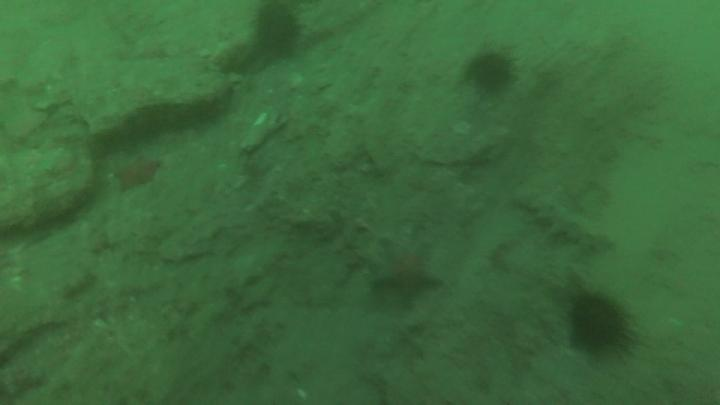echinus: (572, 295, 625, 354), (259, 7, 299, 56), (469, 55, 515, 96)
holothurian: (530, 197, 614, 258)
starfish: (373, 242, 443, 306), (112, 156, 160, 192)
